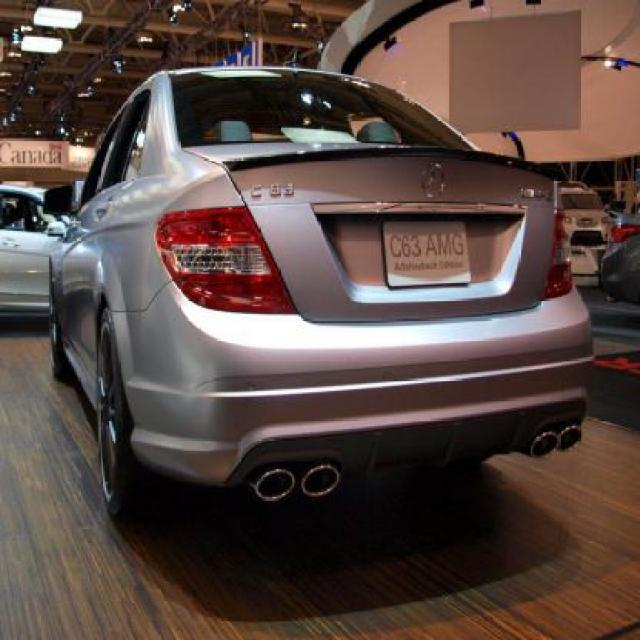License-Plates: (383, 221, 471, 286)
